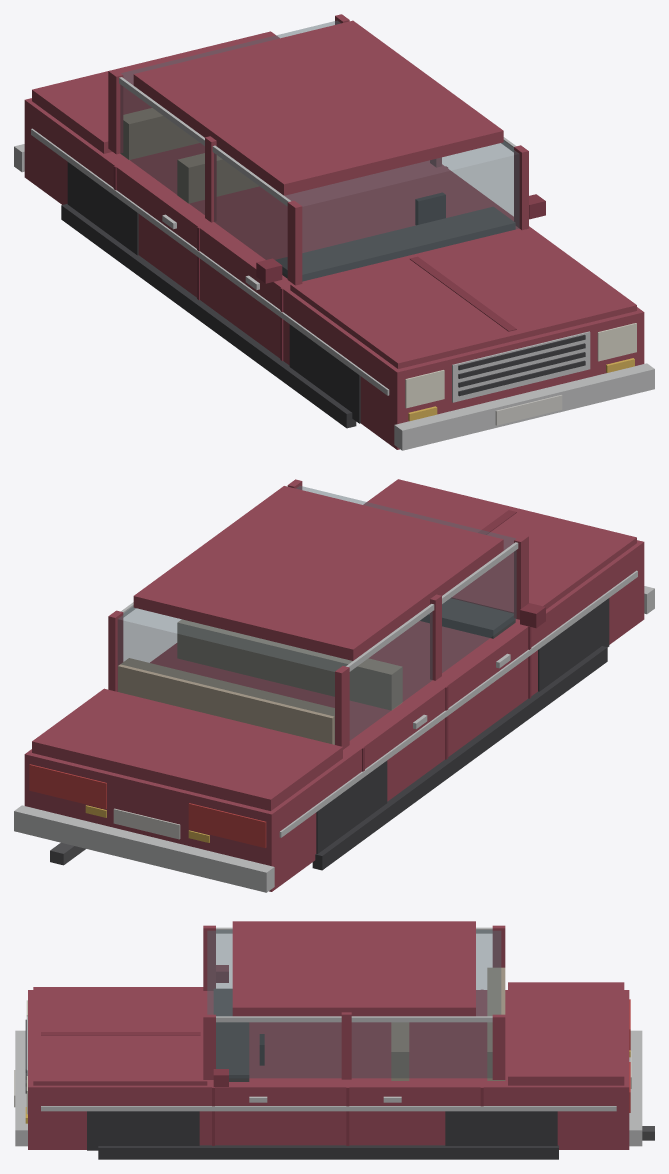
File: sedan_body.glb
The picture shows the model from 3 angles, top to bottom: view 1: azimuth 30°, elevation 25°; view 2: azimuth 150°, elevation 25°; view 3: azimuth 270°, elevation 25°; orthographic projection. The views are drawn at different scales.
Parts seen in each view (by area): view 1: verda_sedano; view 2: verda_sedano; view 3: verda_sedano.
Boxes of the visible parts, <box> form: verda_sedano: <box>14,14,654,450</box>; verda_sedano: <box>14,479,654,892</box>; verda_sedano: <box>14,921,654,1159</box>.
Size of the model in its own units: 2.04 by 1.24 by 5.01.
